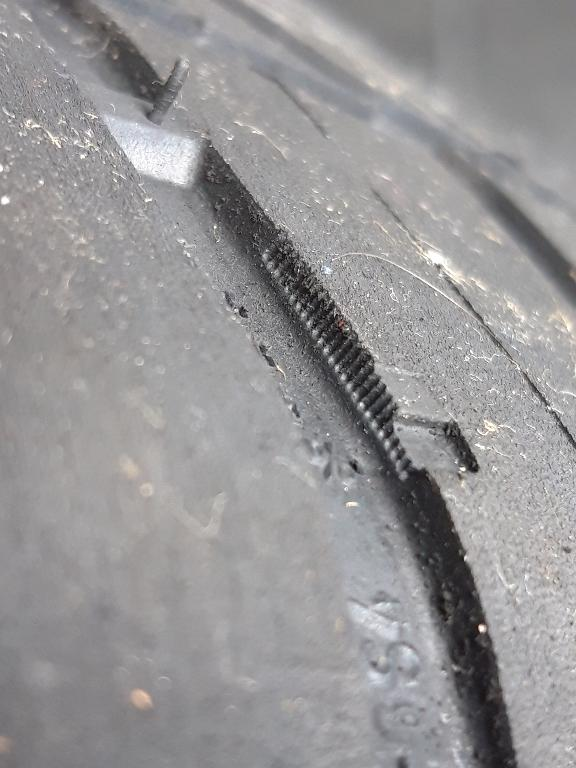temoin:25: (339, 347, 498, 500)
